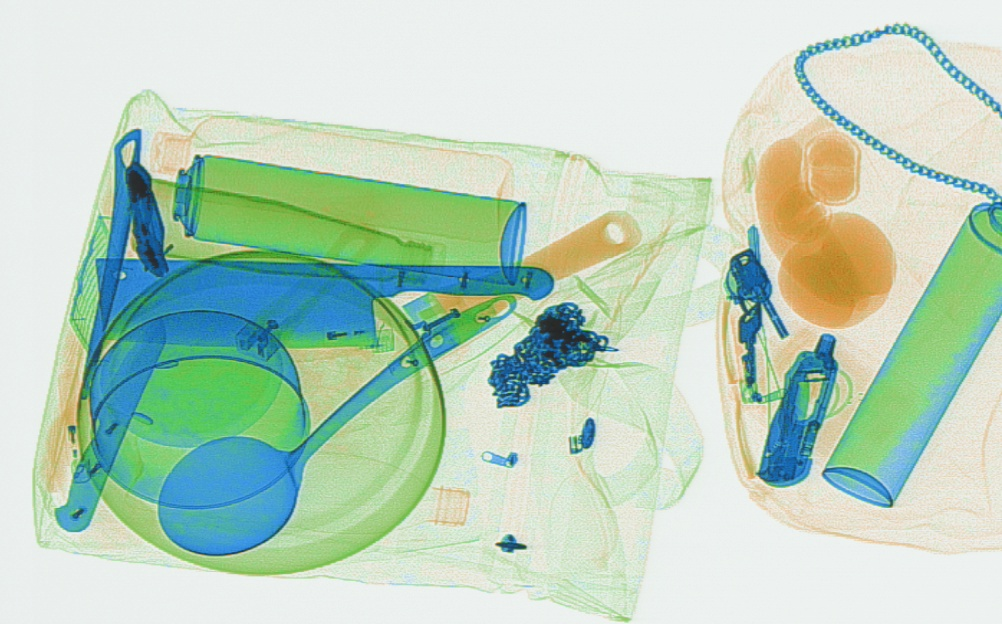knife: (86, 252, 550, 358), (50, 313, 168, 531), (757, 335, 837, 491), (117, 160, 169, 273)
lighter: (268, 323, 400, 353)
pressure: (822, 195, 999, 512), (173, 148, 527, 287)
